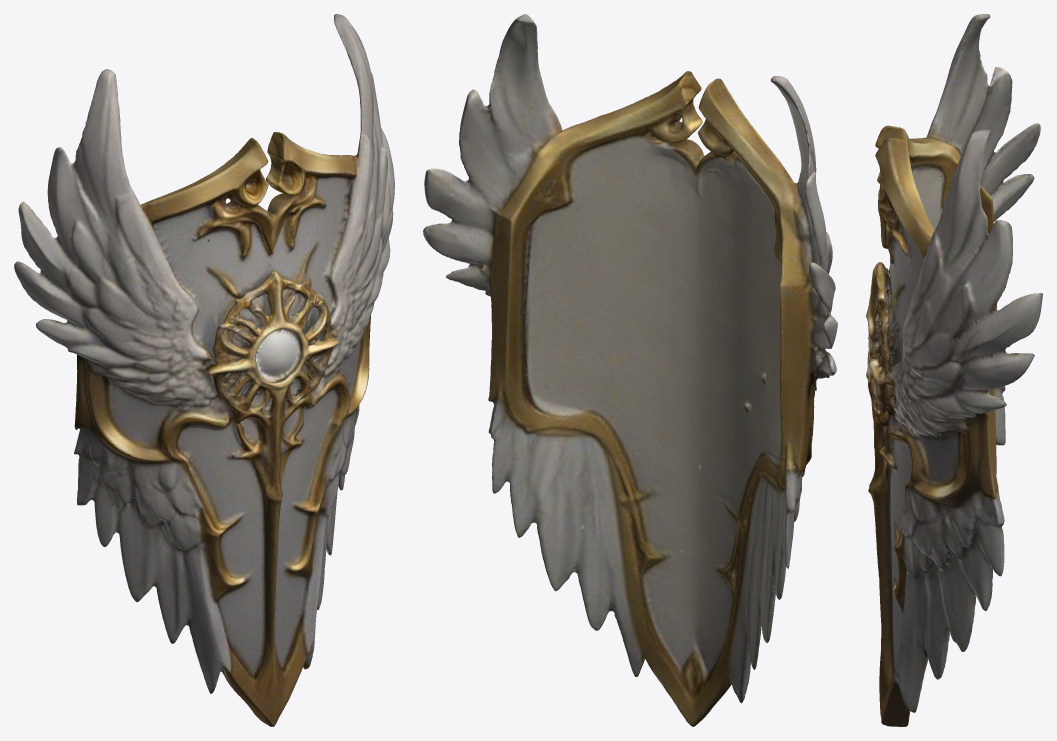
The model's file is PF_Shield17.glb.
The picture shows the model from 3 angles, left to right: view 1: azimuth 30°, elevation 25°; view 2: azimuth 150°, elevation 25°; view 3: azimuth 270°, elevation 25°; orthographic projection. The views are drawn at different scales.
Size of the model in its own units: 1.19 by 1.99 by 0.4873.
1 material, 1 textured.
